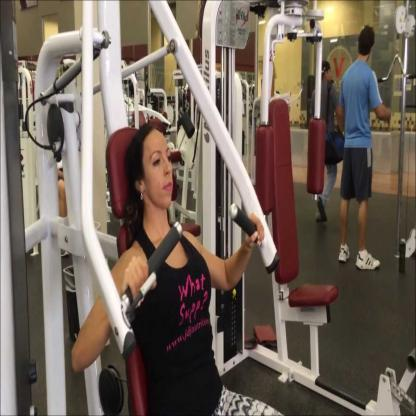Chest Press machine: (4, 0, 289, 416)
